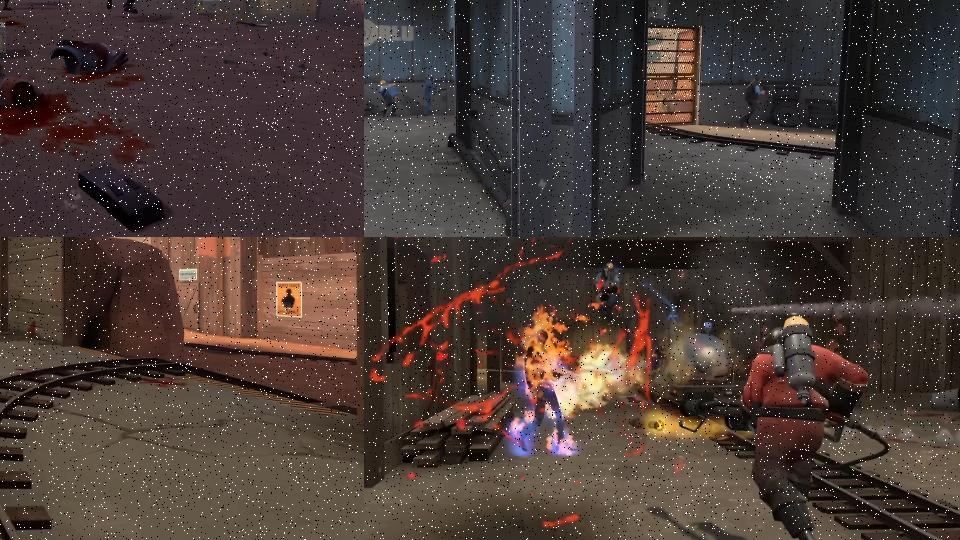Enemy: (677, 309, 890, 540), (517, 328, 581, 454), (738, 73, 776, 127), (592, 261, 621, 327), (419, 75, 446, 117), (378, 78, 402, 120)
